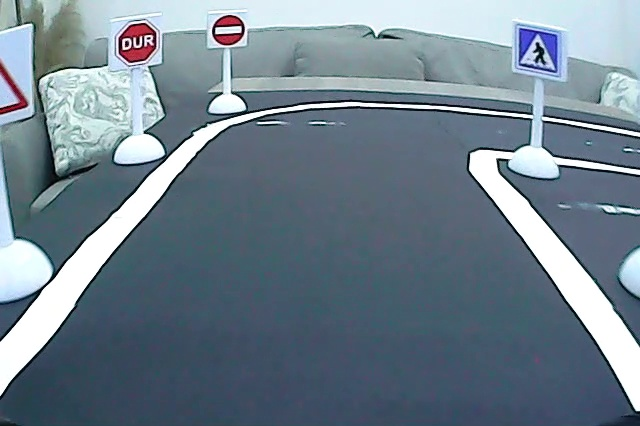do not enter: (211, 13, 246, 48)
pedestrian crossing: (513, 23, 562, 78)
stop sign: (116, 18, 160, 66)
